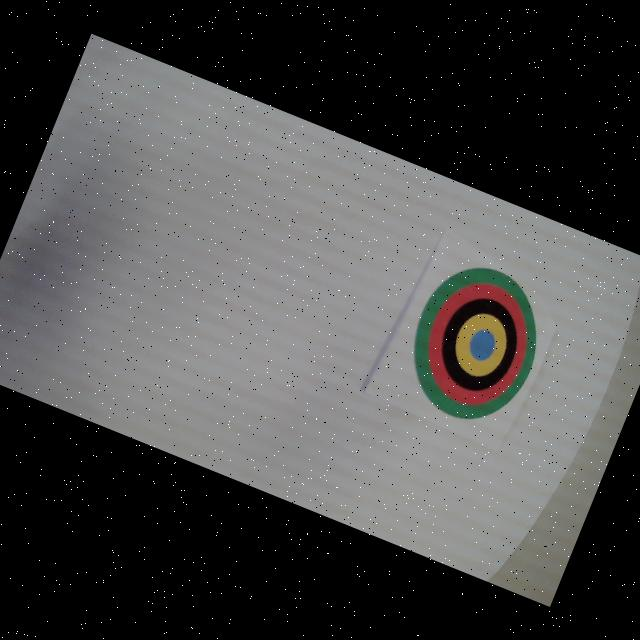COGNITIVE: (389, 250, 560, 437)
